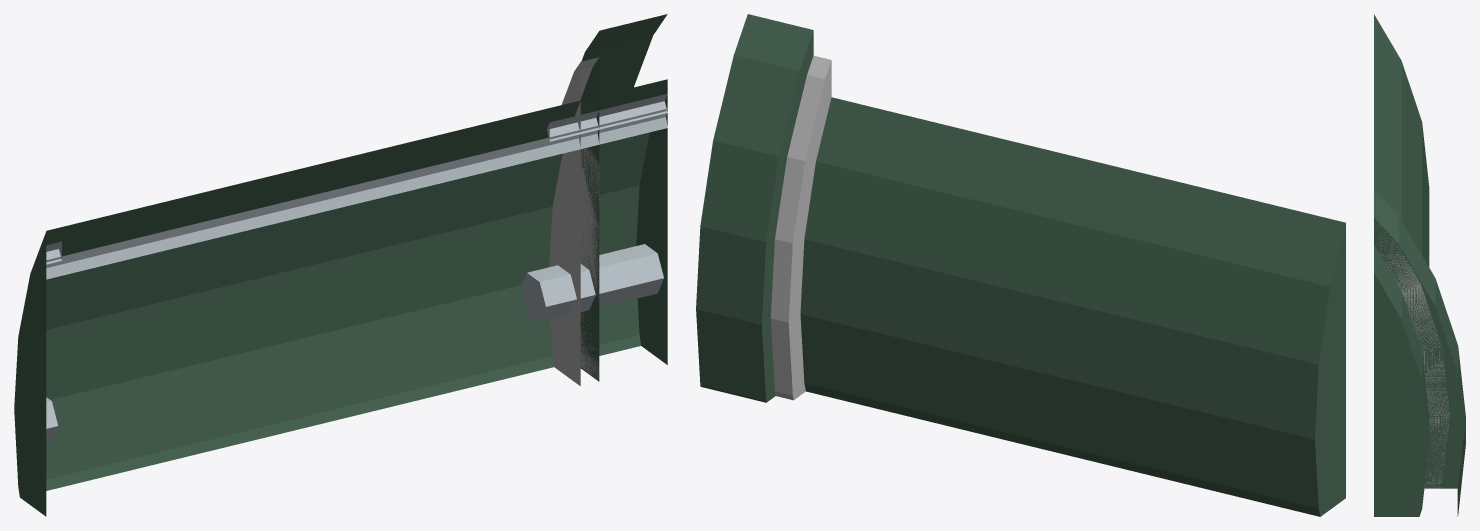
Rendered from cell_82.obj.
The picture shows the model from 3 angles, left to right: view 1: azimuth 30°, elevation 25°; view 2: azimuth 150°, elevation 25°; view 3: azimuth 270°, elevation 25°; orthographic projection. The views are drawn at different scales.
Size of the model in its own units: 1 by 0.5404 by 0.15.
